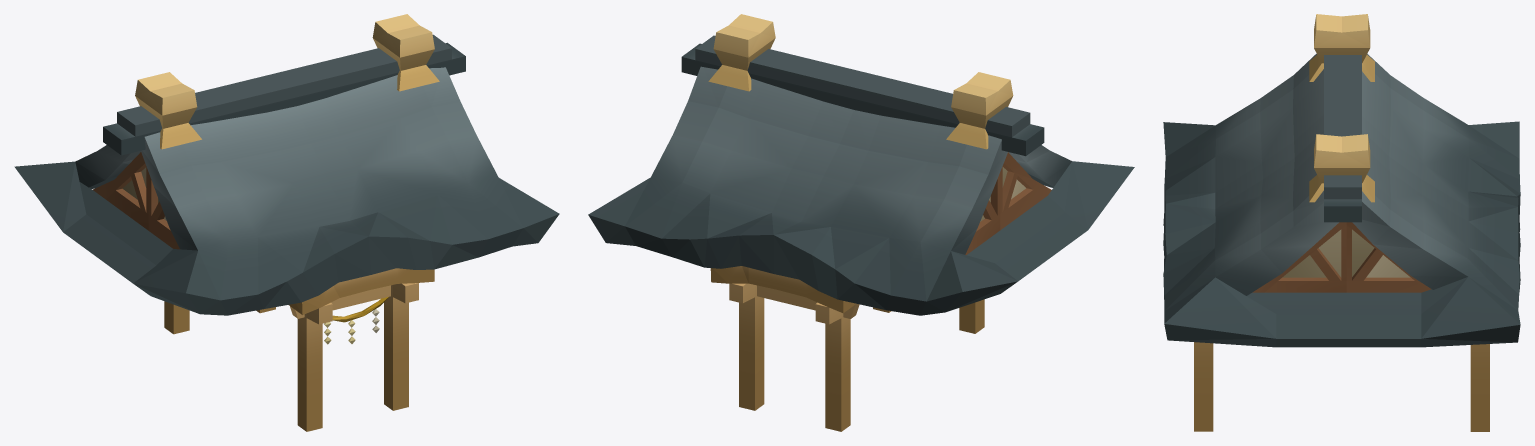
The model's file is Shrine_Roof_wSupport.fbx.
3 renders of one model, left to right at view 1: azimuth 30°, elevation 25°; view 2: azimuth 150°, elevation 25°; view 3: azimuth 270°, elevation 25°, orthographic. The views are drawn at different scales.
Parts seen in each view (by area): view 1: Shrine_Roof_wSupport; view 2: Shrine_Roof_wSupport; view 3: Shrine_Roof_wSupport.
Part boxes in pixels (<box>): Shrine_Roof_wSupport: <box>14,14,559,431</box>; Shrine_Roof_wSupport: <box>588,14,1134,431</box>; Shrine_Roof_wSupport: <box>1163,14,1520,431</box>.
Bounding box in the file's own units: 5.92 × 4.66 × 4.67.
Materials: 1 (1 with a texture image).
